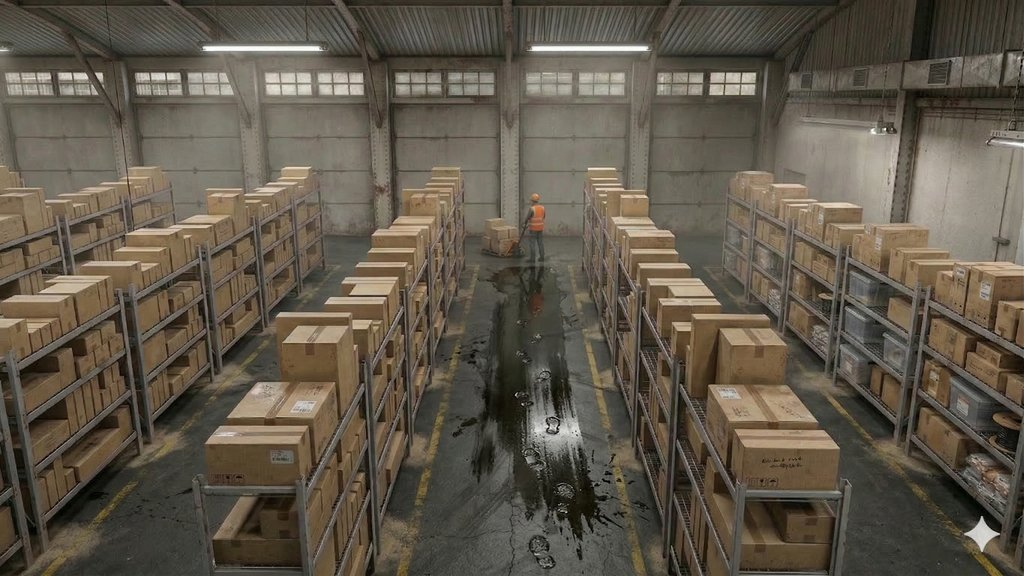person: (521, 190, 563, 268)
safety_helmet: (528, 191, 545, 201)
safety_vest: (526, 203, 551, 236)
spill: (491, 276, 597, 521)
